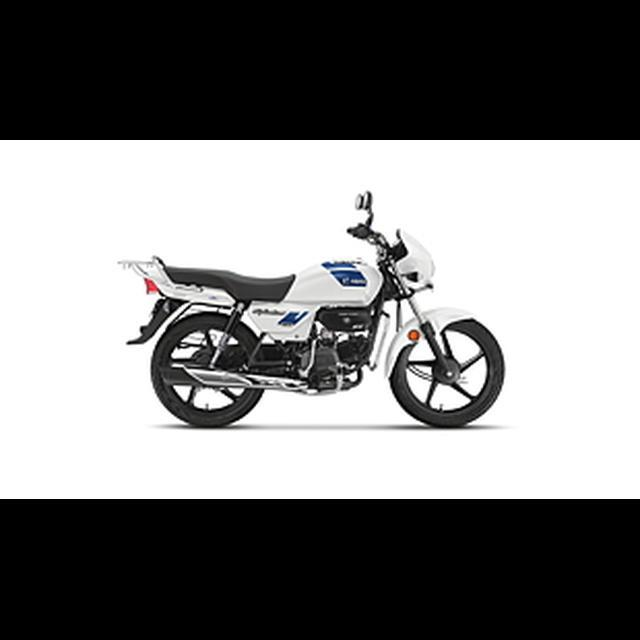motorcycle: (113, 185, 509, 433)
